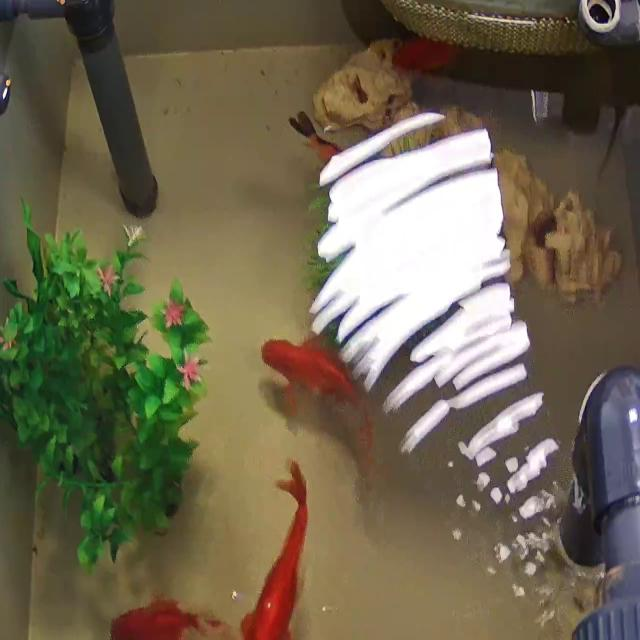fish: (261, 336, 385, 462), (242, 459, 308, 640), (107, 595, 240, 640), (291, 109, 340, 166), (391, 38, 459, 74)
